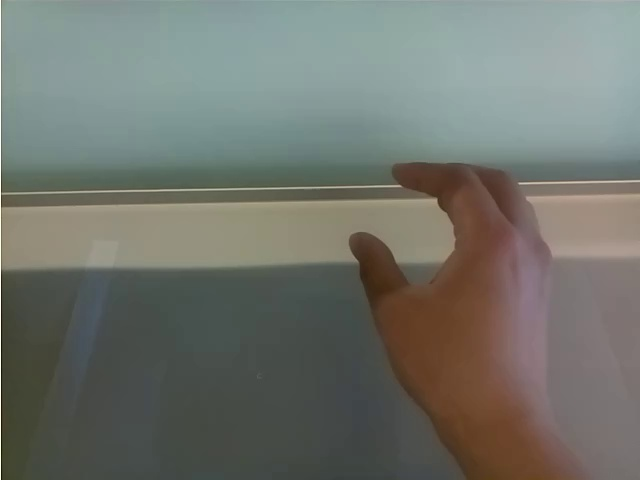hand: (346, 160, 559, 432)
